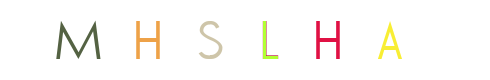A: (303, 0, 383, 80)
H: (108, 0, 188, 80), (286, 0, 366, 80)
L: (206, 0, 286, 80)
M: (38, 0, 118, 80)
S: (153, 0, 233, 80)
